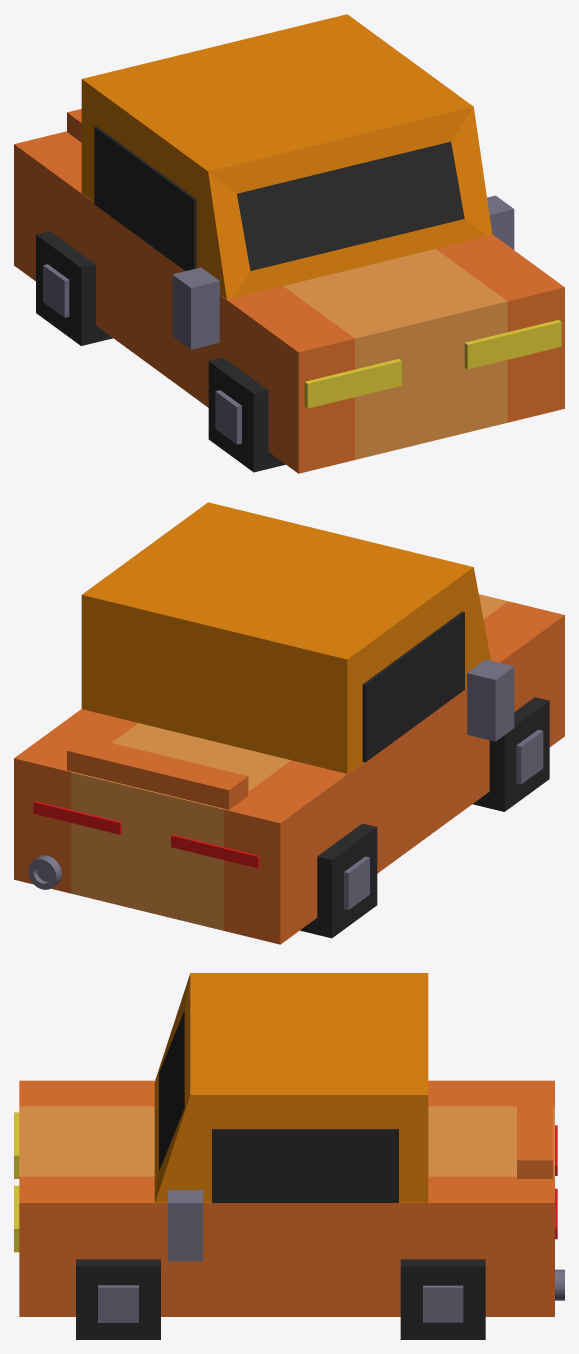
Rendered from car3.fbx.
3 views of the same model, one above another, from view 1: azimuth 30°, elevation 25°; view 2: azimuth 150°, elevation 25°; view 3: azimuth 270°, elevation 25° (orthographic). The views are drawn at different scales.
Parts seen in each view (by area): view 1: Cube.001, Cube, Cube.006, Cube.007, Cube.004, Cube.003, Cube.005, Cube.008, Cube.009; view 2: Cube.001, Cube, Cube.006, Cube.002, Cube.005, Cube.003, Cube.004, Cube.010, Cube.008, Cube.009, Cylinder; view 3: Cube, Cube.001, Cube.006, Cube.005, Cube.003, Cube.002, Cube.004, Cube.008, Cube.009, Cube.007.
Boxes of the visible parts, x1,y1,x2,y2 form: Cube.001: (81,14,492,299); Cube: (14,131,564,473); Cube.006: (94,126,196,270); Cube.007: (304,320,561,408); Cube.004: (172,195,514,349); Cube.003: (208,357,285,472); Cube.005: (36,231,112,345); Cube.008: (215,390,241,444); Cube.009: (43,264,69,317); Cube.001: (81,502,490,773); Cube: (14,594,564,944); Cube.006: (362,611,464,762); Cube.002: (67,736,248,809); Cube.005: (300,823,377,938); Cube.003: (472,697,549,811); Cube.004: (467,659,514,741); Cube.010: (33,801,259,868); Cube.008: (516,729,543,784); Cube.009: (344,856,369,909); Cylinder: (28,855,61,889); Cube: (19,1080,554,1316); Cube.001: (154,973,428,1202); Cube.006: (212,1129,398,1202); Cube.005: (400,1259,485,1339); Cube.003: (76,1259,160,1339); Cube.002: (517,1086,553,1178); Cube.004: (168,1190,203,1261); Cube.008: (98,1285,138,1322); Cube.009: (423,1285,463,1322); Cube.007: (14,1112,19,1252).
Size of the model in its own units: 48.71 by 36.38 by 76.41.
